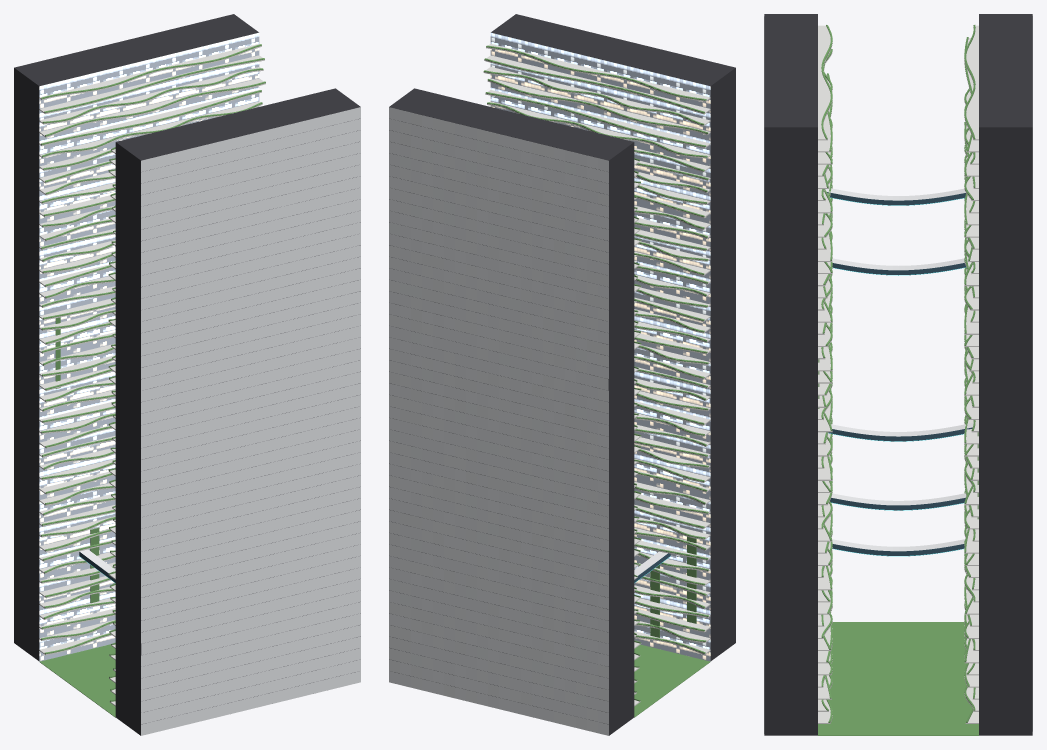
The model's file is SM_TheLine_Segment.fbx.
3 views of the same model, side by side, from view 1: azimuth 30°, elevation 25°; view 2: azimuth 150°, elevation 25°; view 3: azimuth 270°, elevation 25° (orthographic). The views are drawn at different scales.
Visible parts, largest first — view 1: SM_TheLine_Segment; view 2: SM_TheLine_Segment; view 3: SM_TheLine_Segment.
Part boxes in pixels (x1,y1,x2,y2): SM_TheLine_Segment: (14, 14, 360, 735); SM_TheLine_Segment: (389, 14, 735, 735); SM_TheLine_Segment: (764, 14, 1032, 735).
Size of the model in its own units: 20007 by 50040 by 20028.
